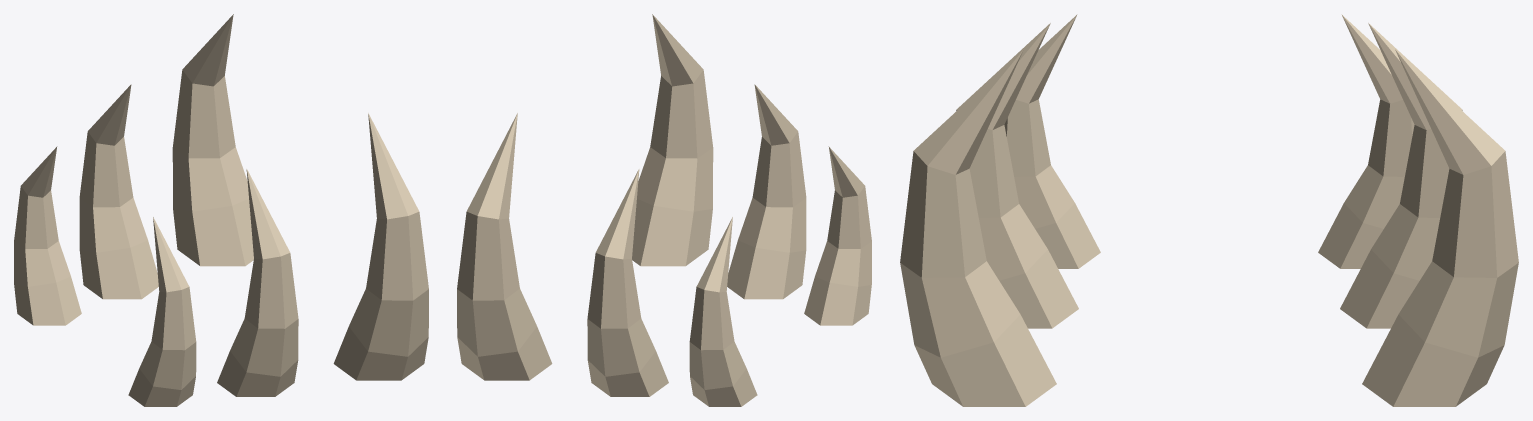
The model's file is boneInGround.fbx.
The picture shows the model from 3 angles, left to right: view 1: azimuth 30°, elevation 25°; view 2: azimuth 150°, elevation 25°; view 3: azimuth 270°, elevation 25°; orthographic projection. The views are drawn at different scales.
Parts seen in each view (by area): view 1: Circle; view 2: Circle; view 3: Circle.
Boxes of the visible parts, x1,y1,x2,y2 form: Circle: (14, 14, 428, 406); Circle: (457, 14, 871, 406); Circle: (900, 14, 1518, 406).
Size of the model in its own units: 908 by 832 by 1392.
